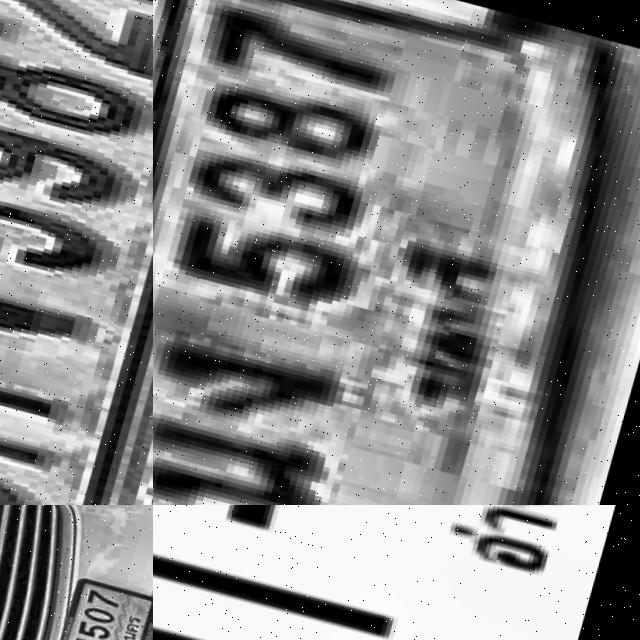license-plate: (153, 0, 640, 505), (0, 0, 153, 505), (153, 505, 640, 640), (40, 565, 153, 640)
